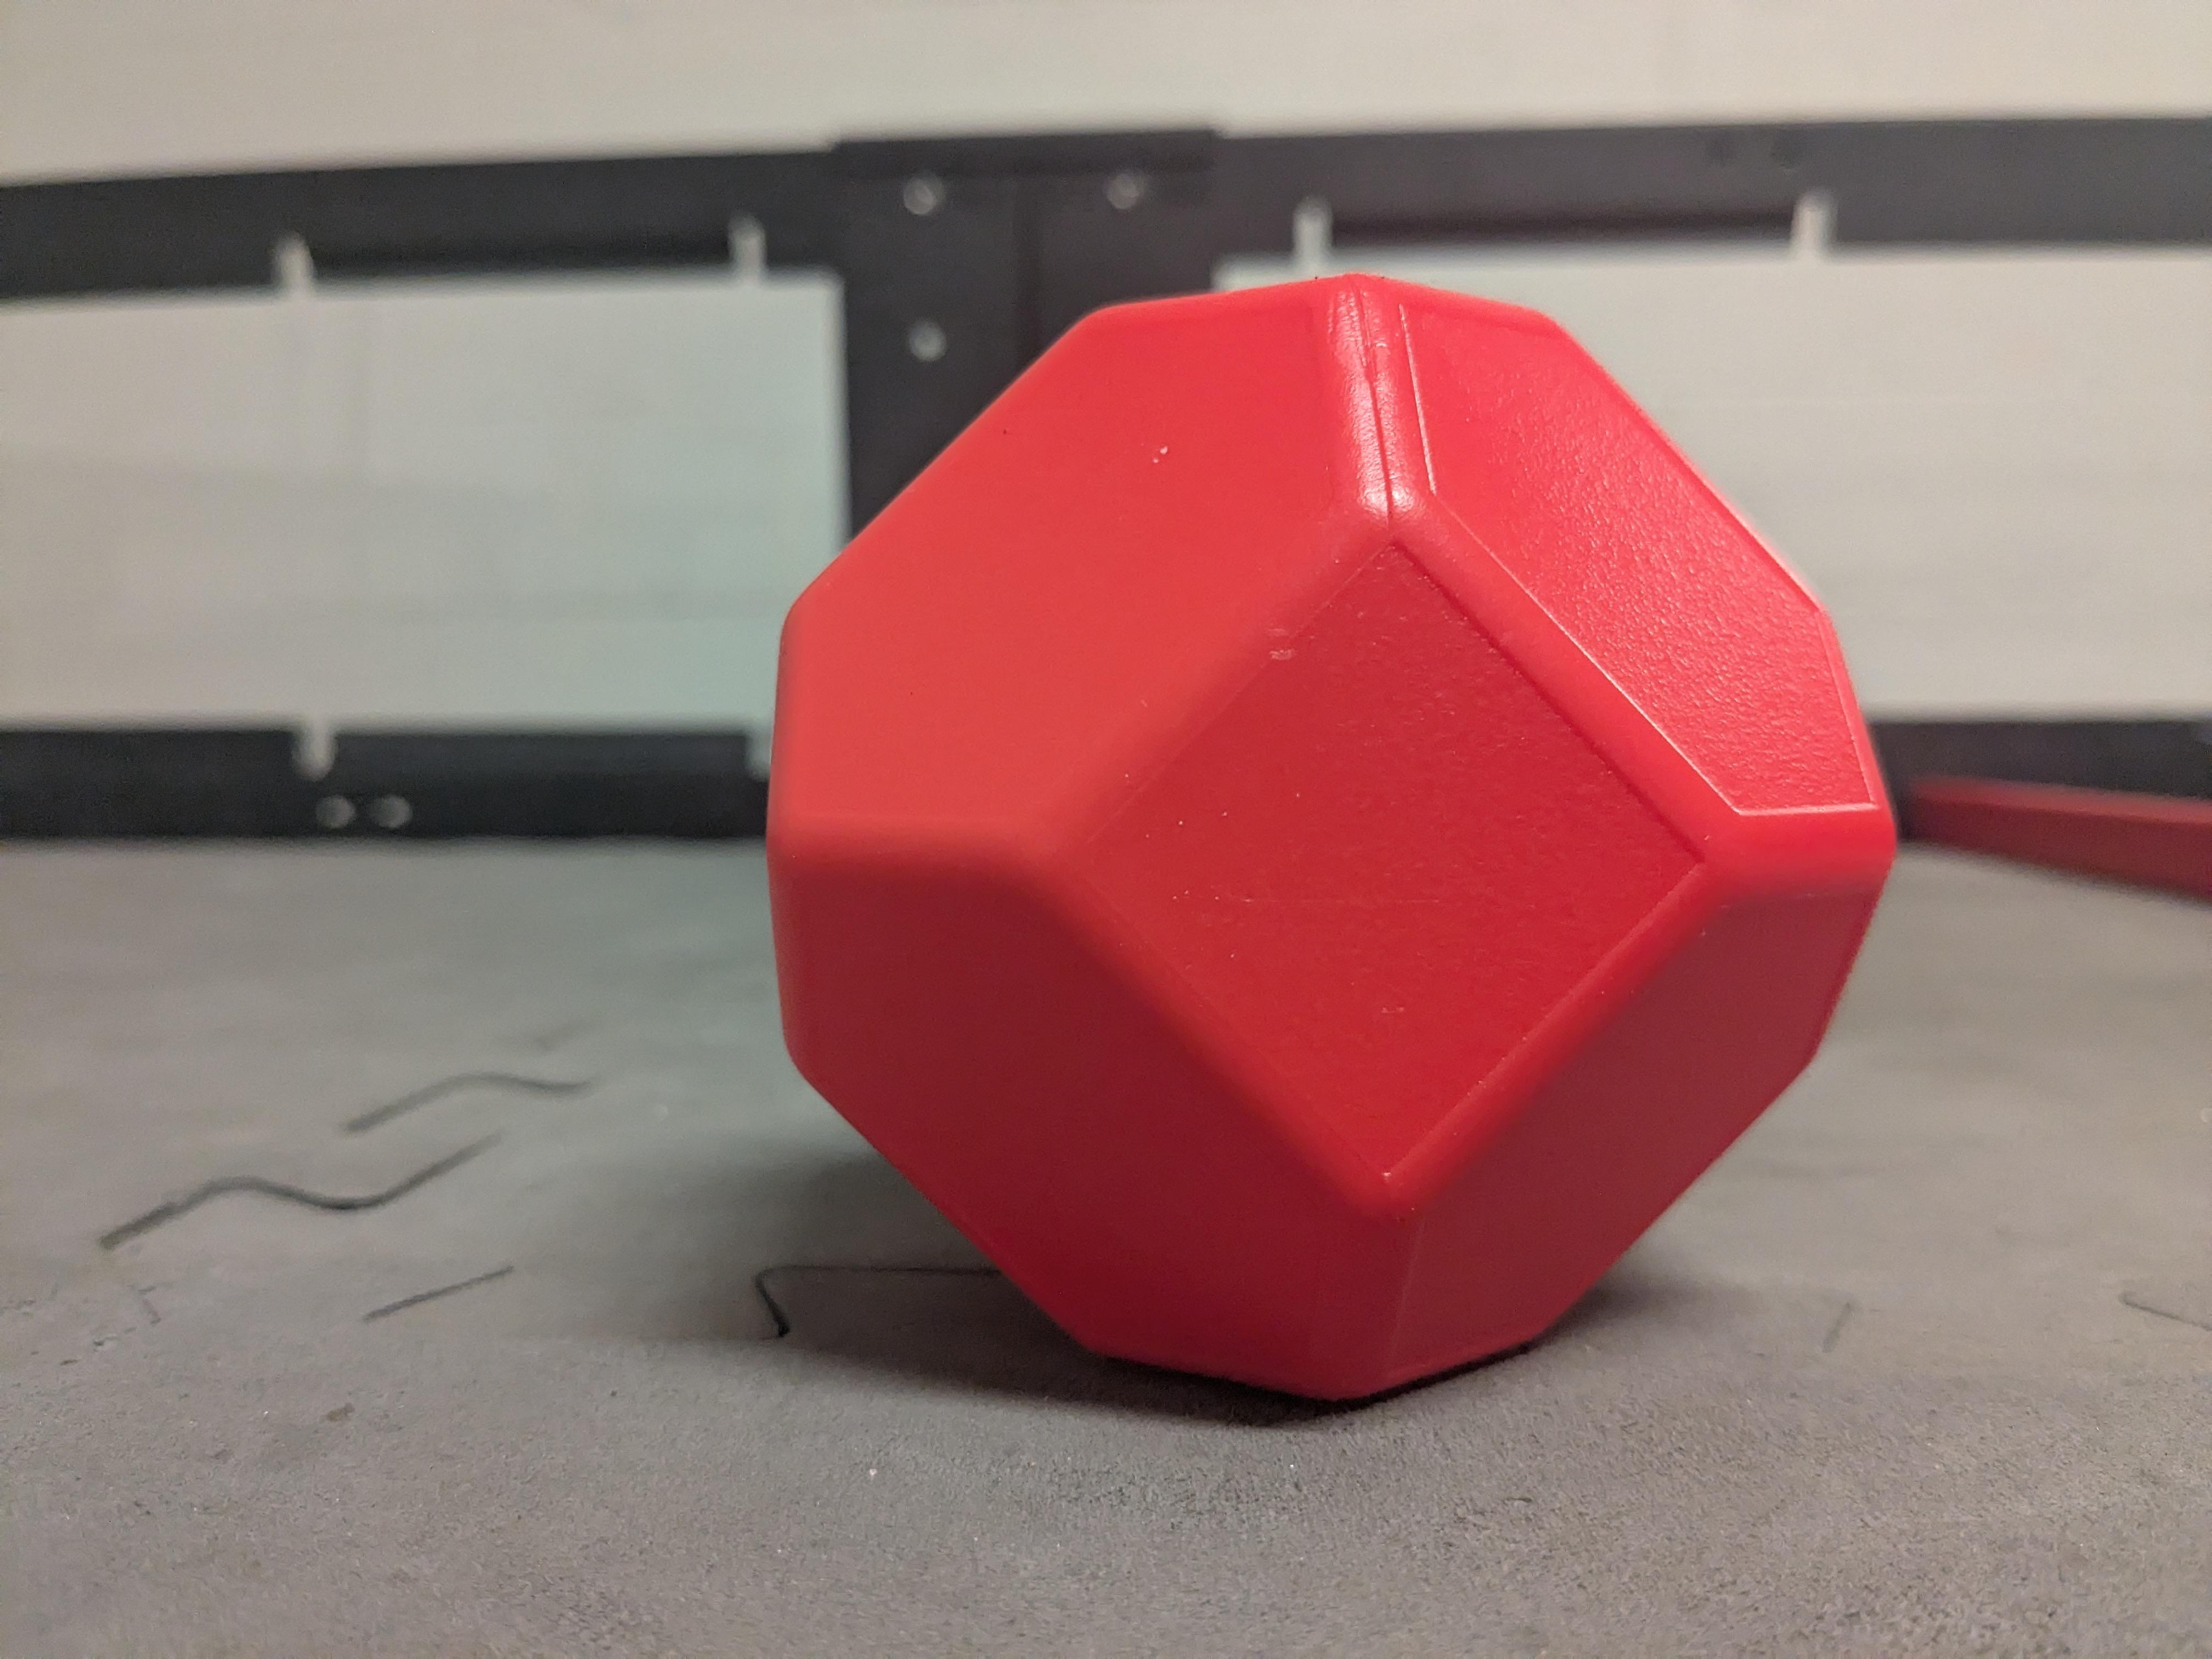Vex-Pieces-RED: (770, 277, 1893, 1396)
